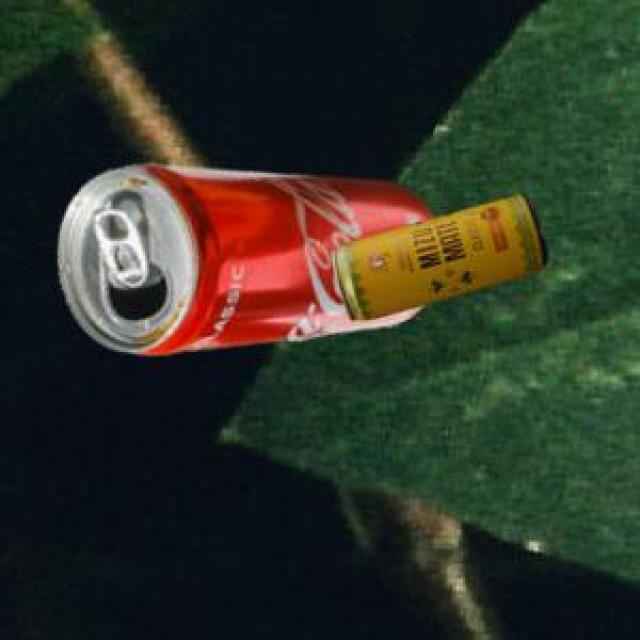logam: (54, 161, 430, 351), (330, 191, 545, 317)
